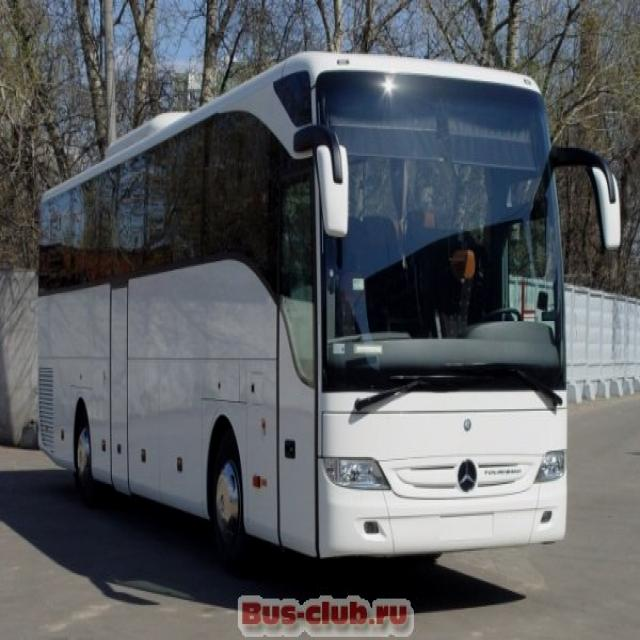bus: (38, 47, 622, 577)
